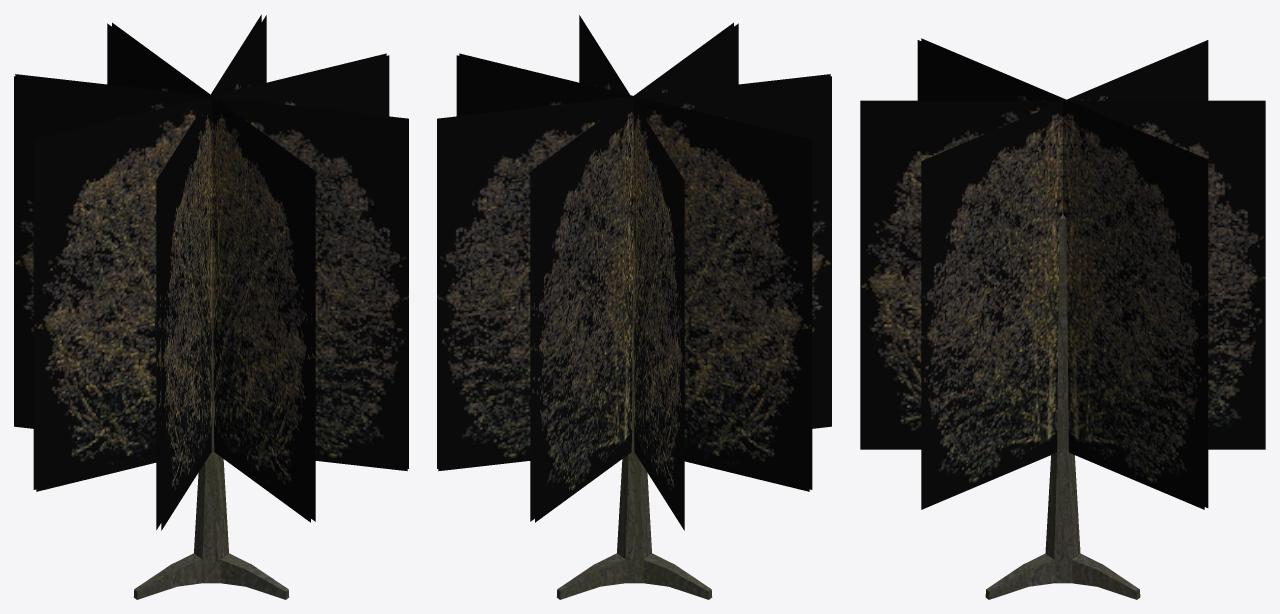
The model's file is tree06_winter.gltf.
3 renders of one model, left to right at view 1: azimuth 30°, elevation 25°; view 2: azimuth 150°, elevation 25°; view 3: azimuth 270°, elevation 25°, orthographic.
Visible parts, largest first — view 1: tree06_top, tree06; view 2: tree06_top, tree06; view 3: tree06_top, tree06.
Part boxes in pixels (bbox=[...]): tree06_top: bbox=[14, 14, 408, 530]; tree06: bbox=[133, 217, 289, 599]; tree06_top: bbox=[437, 15, 831, 530]; tree06: bbox=[556, 217, 712, 599]; tree06_top: bbox=[860, 38, 1265, 509]; tree06: bbox=[985, 214, 1140, 599].
Bounding box in the file's own units: 3.16 × 4.13 × 3.16.
1 material, 1 textured.
